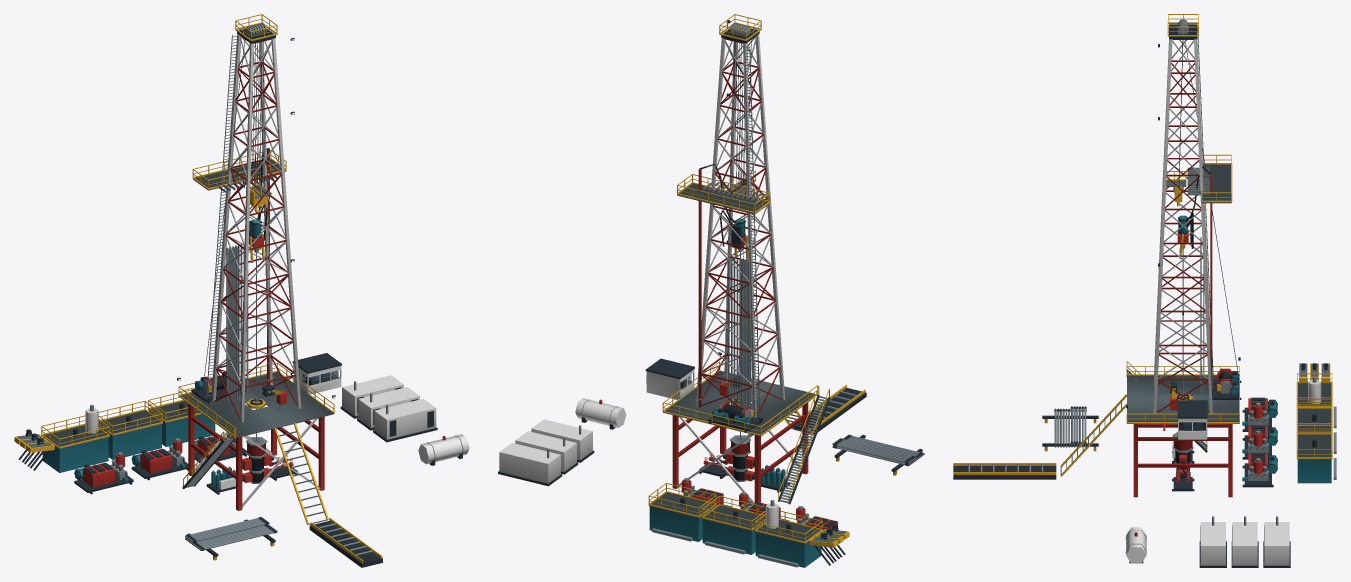
The model's file is land_1500_ac_double_lodl.glb.
3 views of the same model, side by side, from view 1: azimuth 30°, elevation 25°; view 2: azimuth 150°, elevation 25°; view 3: azimuth 270°, elevation 25° (orthographic).
Visible parts, largest first — view 1: derrick_surface_white, derrick_surface_red, drill_floor_surface_deck, generators_surface_white, mud_tanks_surface_blue, setback_pipe_surface_steel, substructure_surface_red, mud_tanks_surface_deck, mud_tanks_surface_yellow, ladder_surface_steel, pipe_rack_surface_steel, drill_line_surface_dark (+10 smaller); view 2: derrick_surface_white, generators_surface_white, derrick_surface_red, mud_tanks_surface_blue, drill_floor_surface_deck, setback_pipe_surface_steel, mud_tanks_surface_deck, substructure_surface_red, mud_tanks_surface_yellow, ladder_surface_steel, pipe_rack_surface_steel, handrails_surface_yellow (+13 smaller); view 3: derrick_surface_white, generators_surface_white, drill_floor_surface_deck, derrick_surface_red, mud_tanks_surface_deck, substructure_surface_red, mud_tanks_surface_yellow, pipe_rack_surface_steel, catwalk_surface_dark, handrails_surface_yellow, racking_board_surface_deck, mud_tanks_surface_blue (+8 smaller).
Boxes of the visible parts, x1=… form: derrick_surface_white: x1=211, y1=34, x2=301, y2=422; derrick_surface_red: x1=214, y1=39, x2=296, y2=419; drill_floor_surface_deck: x1=181, y1=372, x2=333, y2=437; generators_surface_white: x1=342, y1=375, x2=436, y2=439; mud_tanks_surface_blue: x1=42, y1=411, x2=215, y2=472; setback_pipe_surface_steel: x1=226, y1=244, x2=248, y2=401; substructure_surface_red: x1=188, y1=404, x2=324, y2=510; mud_tanks_surface_deck: x1=44, y1=401, x2=202, y2=449; mud_tanks_surface_yellow: x1=41, y1=389, x2=201, y2=448; ladder_surface_steel: x1=206, y1=34, x2=237, y2=398; pipe_rack_surface_steel: x1=185, y1=517, x2=277, y2=550; drill_line_surface_dark: x1=204, y1=39, x2=264, y2=376; derrick_surface_white: x1=695, y1=34, x2=785, y2=417; generators_surface_white: x1=499, y1=419, x2=592, y2=483; derrick_surface_red: x1=701, y1=38, x2=782, y2=417; mud_tanks_surface_blue: x1=649, y1=506, x2=821, y2=567; drill_floor_surface_deck: x1=663, y1=370, x2=815, y2=436; setback_pipe_surface_steel: x1=728, y1=257, x2=750, y2=409; mud_tanks_surface_deck: x1=649, y1=493, x2=820, y2=544; substructure_surface_red: x1=672, y1=402, x2=808, y2=503; mud_tanks_surface_yellow: x1=648, y1=483, x2=822, y2=543; ladder_surface_steel: x1=744, y1=44, x2=760, y2=418; pipe_rack_surface_steel: x1=832, y1=434, x2=924, y2=465; handrails_surface_yellow: x1=662, y1=361, x2=818, y2=436; derrick_surface_white: x1=1153, y1=39, x2=1212, y2=413; generators_surface_white: x1=1200, y1=522, x2=1289, y2=565; drill_floor_surface_deck: x1=1127, y1=375, x2=1239, y2=423; derrick_surface_red: x1=1156, y1=39, x2=1209, y2=412; mud_tanks_surface_deck: x1=1297, y1=383, x2=1331, y2=459; substructure_surface_red: x1=1133, y1=424, x2=1232, y2=497; mud_tanks_surface_yellow: x1=1296, y1=373, x2=1332, y2=458; pipe_rack_surface_steel: x1=1054, y1=406, x2=1086, y2=447; catwalk_surface_dark: x1=953, y1=466, x2=1056, y2=479; handrails_surface_yellow: x1=1126, y1=366, x2=1239, y2=423; racking_board_surface_deck: x1=1201, y1=164, x2=1231, y2=203; mud_tanks_surface_blue: x1=1297, y1=459, x2=1331, y2=483.
Size of the model in its own units: 43.62 by 53.71 by 40.86.
